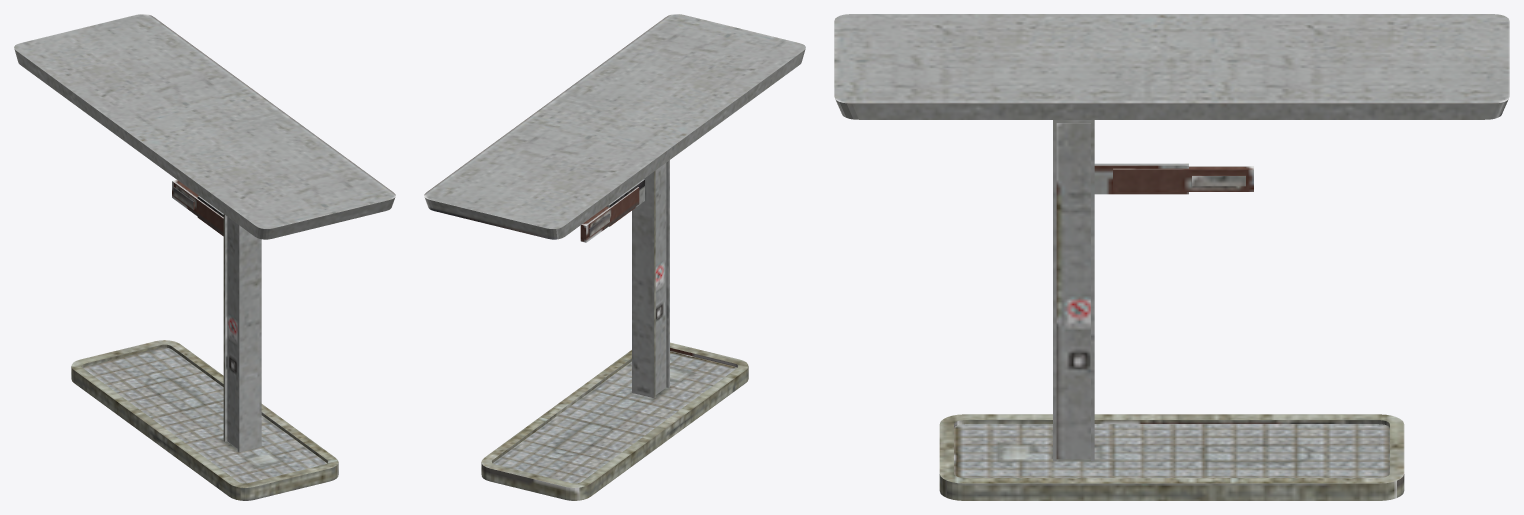
Rendered from Gas-Station-building.fbx.
3 renders of one model, left to right at view 1: azimuth 30°, elevation 25°; view 2: azimuth 150°, elevation 25°; view 3: azimuth 270°, elevation 25°, orthographic. The views are drawn at different scales.
Visible parts, largest first — view 1: Roof, station; view 2: Roof, station; view 3: Roof, station.
Part boxes in pixels (box(x1,y1,x2,y2)): Roof: box(14, 14, 395, 239); station: box(71, 179, 338, 500); Roof: box(424, 14, 805, 239); station: box(481, 160, 748, 500); Roof: box(834, 14, 1509, 119); station: box(939, 120, 1404, 500).
Bounding box in the file's own units: 784 × 1659 × 2492.
Materials: 1 (1 with a texture image).
